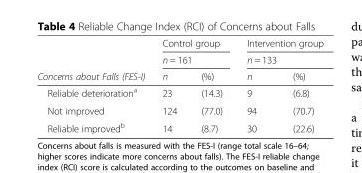table: (36, 37, 322, 133)
table column: (36, 37, 153, 133), (274, 37, 322, 133), (188, 37, 234, 133), (234, 37, 274, 133), (153, 37, 188, 133)
table column header: (36, 37, 322, 83)
table row: (36, 83, 322, 101), (36, 101, 322, 118), (36, 51, 322, 67), (36, 67, 322, 83), (36, 118, 322, 133), (36, 37, 322, 51)
table spanning cell: (36, 37, 153, 83), (234, 37, 322, 67), (153, 37, 234, 67)
